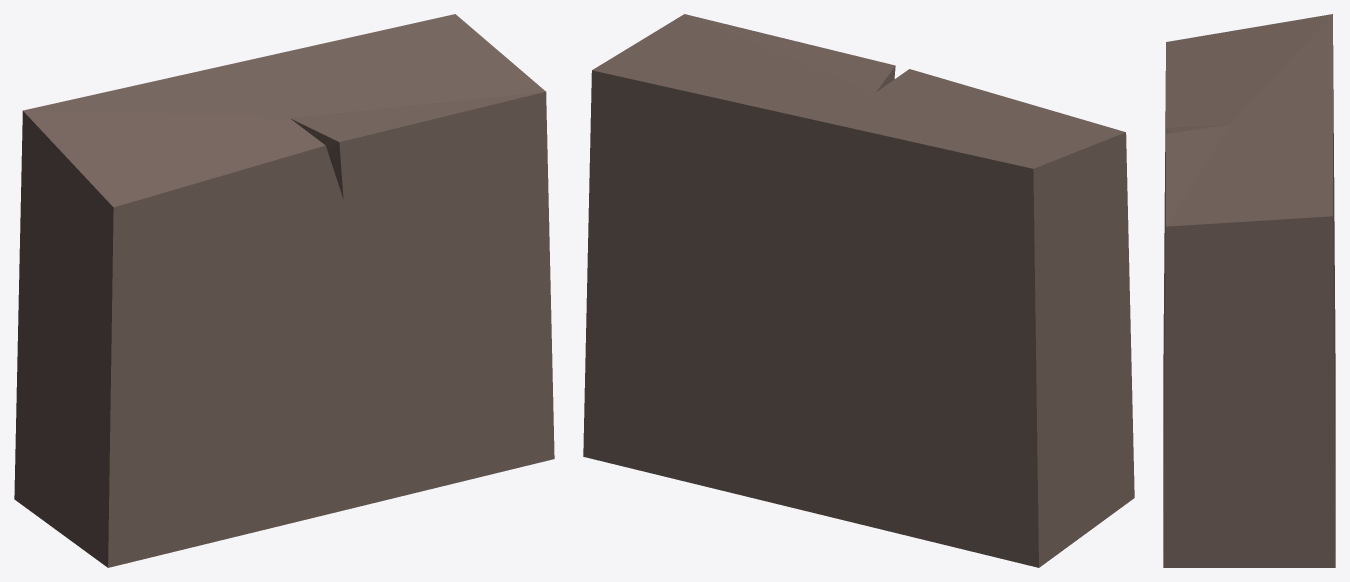
The model's file is rock4_wall_decoration.fbx.
3 views of the same model, side by side, from view 1: azimuth 30°, elevation 25°; view 2: azimuth 150°, elevation 25°; view 3: azimuth 270°, elevation 25° (orthographic). The views are drawn at different scales.
Visible parts, largest first — view 1: rock4_wall_decoration; view 2: rock4_wall_decoration; view 3: rock4_wall_decoration.
Part boxes in pixels (x1,y1,x2,y2): rock4_wall_decoration: (14,14,554,567); rock4_wall_decoration: (583,14,1134,567); rock4_wall_decoration: (1163,14,1335,567).
Size of the model in its own units: 1078 by 896 by 392.
